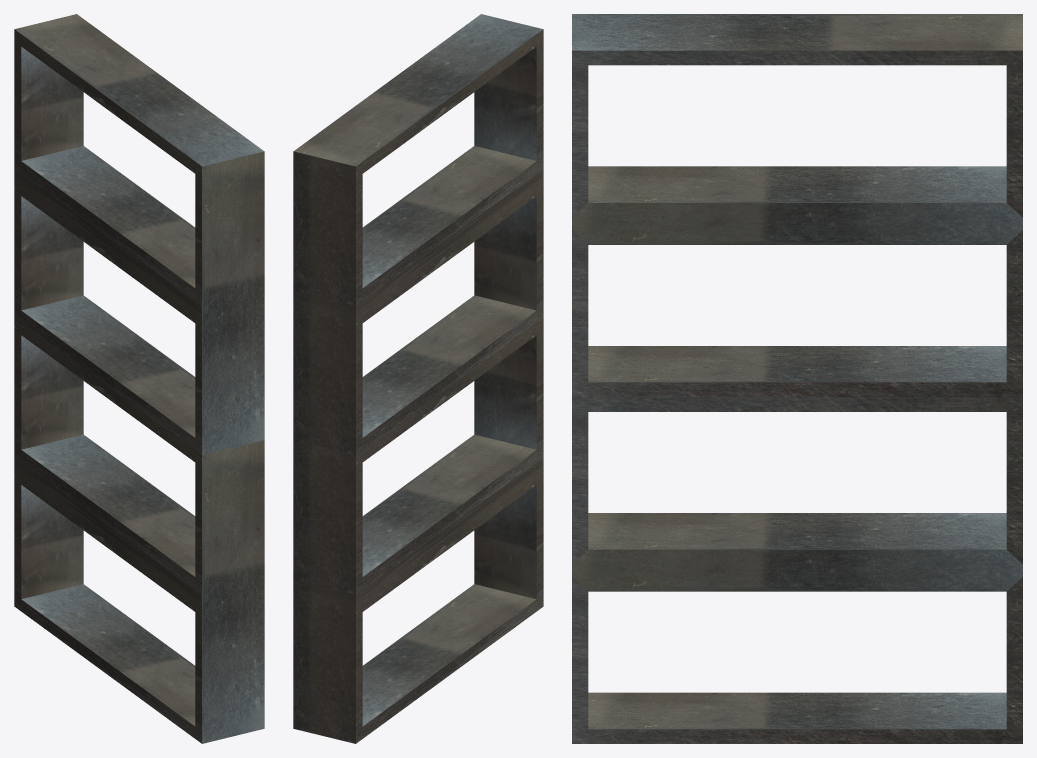
Rendered from Estanteria.fbx.
3 renders of one model, left to right at view 1: azimuth 30°, elevation 25°; view 2: azimuth 150°, elevation 25°; view 3: azimuth 270°, elevation 25°, orthographic. The views are drawn at different scales.
Visible parts, largest first — view 1: Cube.001; view 2: Cube.001; view 3: Cube.001.
Boxes of the visible parts, x1=… form: Cube.001: x1=14, y1=14, x2=264, y2=743; Cube.001: x1=293, y1=14, x2=543, y2=743; Cube.001: x1=572, y1=14, x2=1022, y2=743.
Bounding box in the file's own units: 200 × 1770 × 1043.
